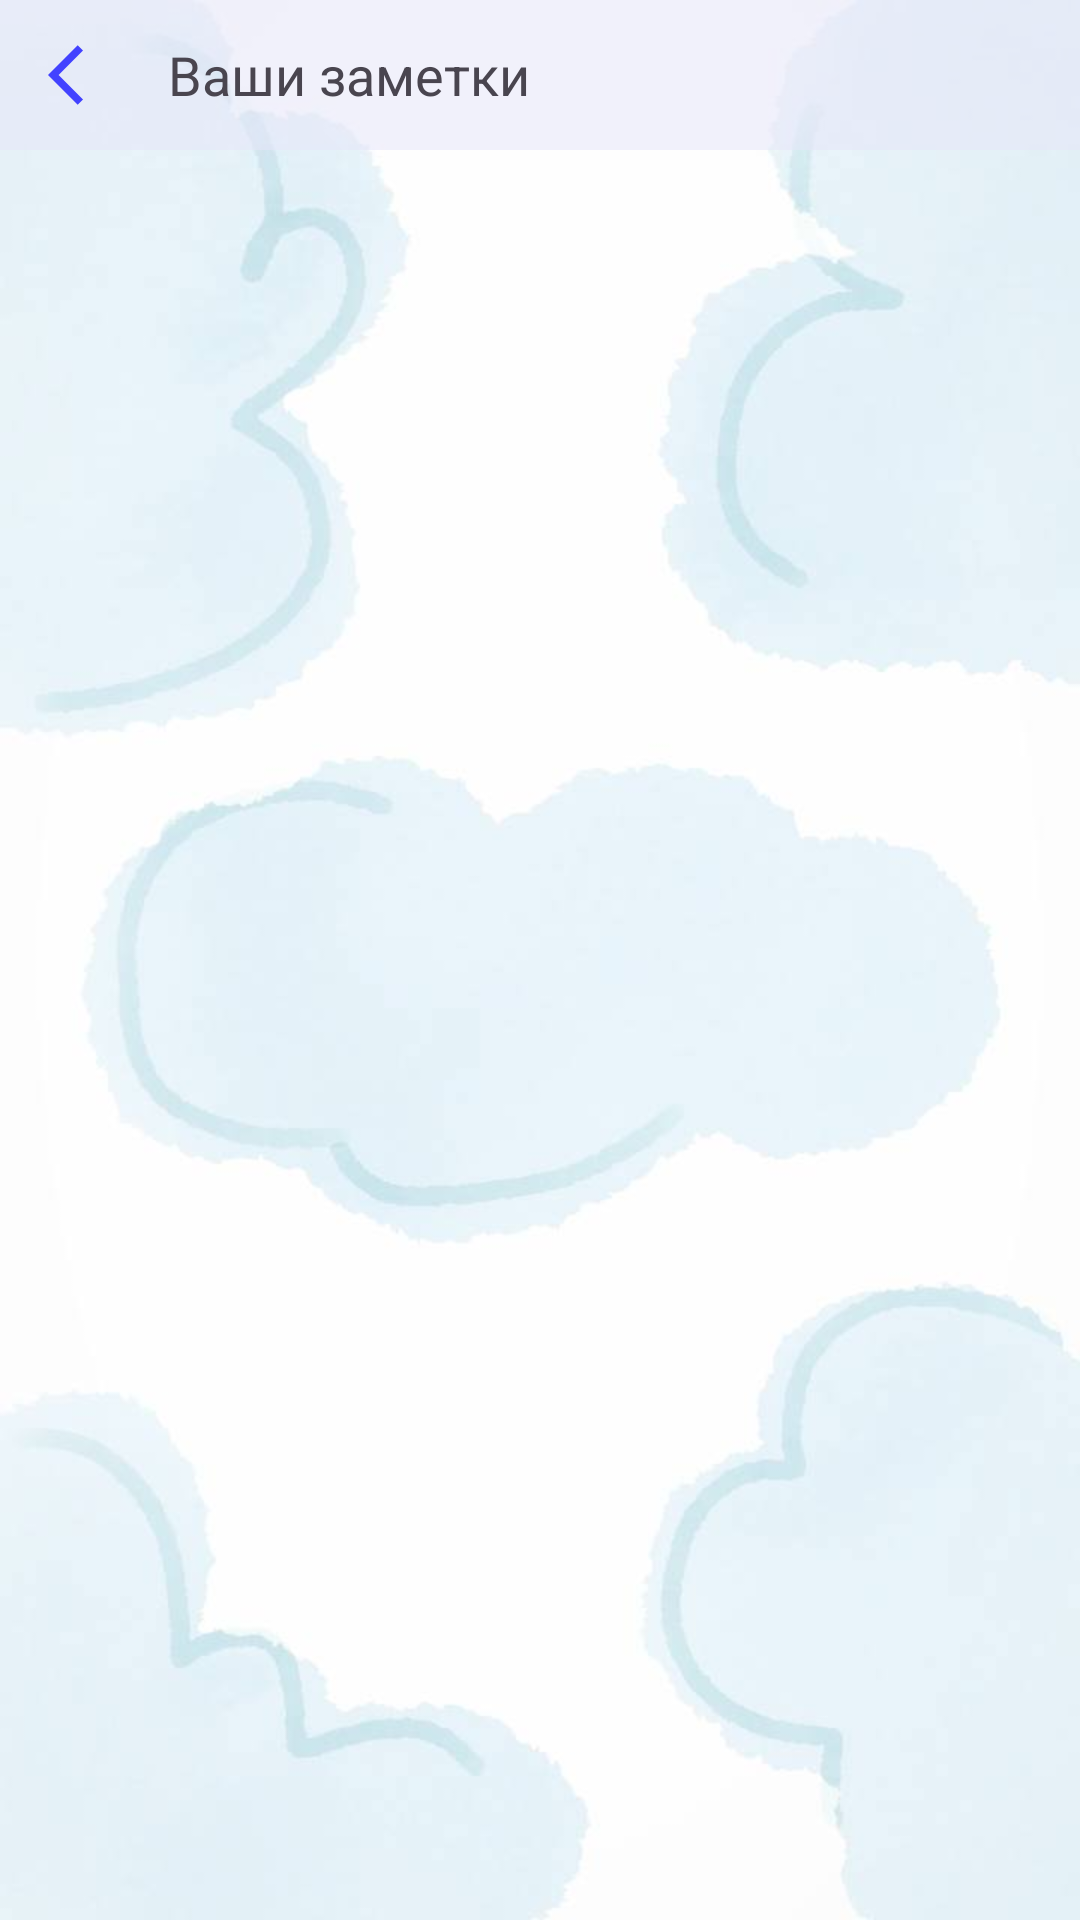

Where to tap for icons on this 1080px x 1920px app screen, as point (x, y):
Кнопка назад: point (65, 75)
